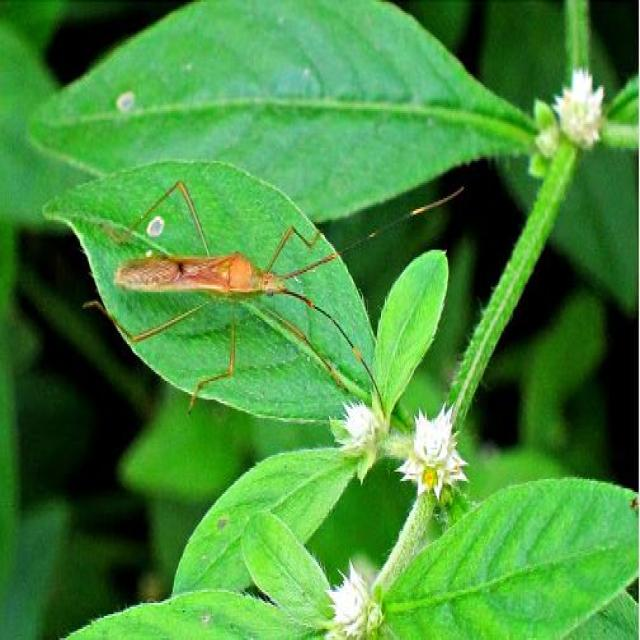walang sangit pada tanaman padi: (66, 167, 481, 416)
